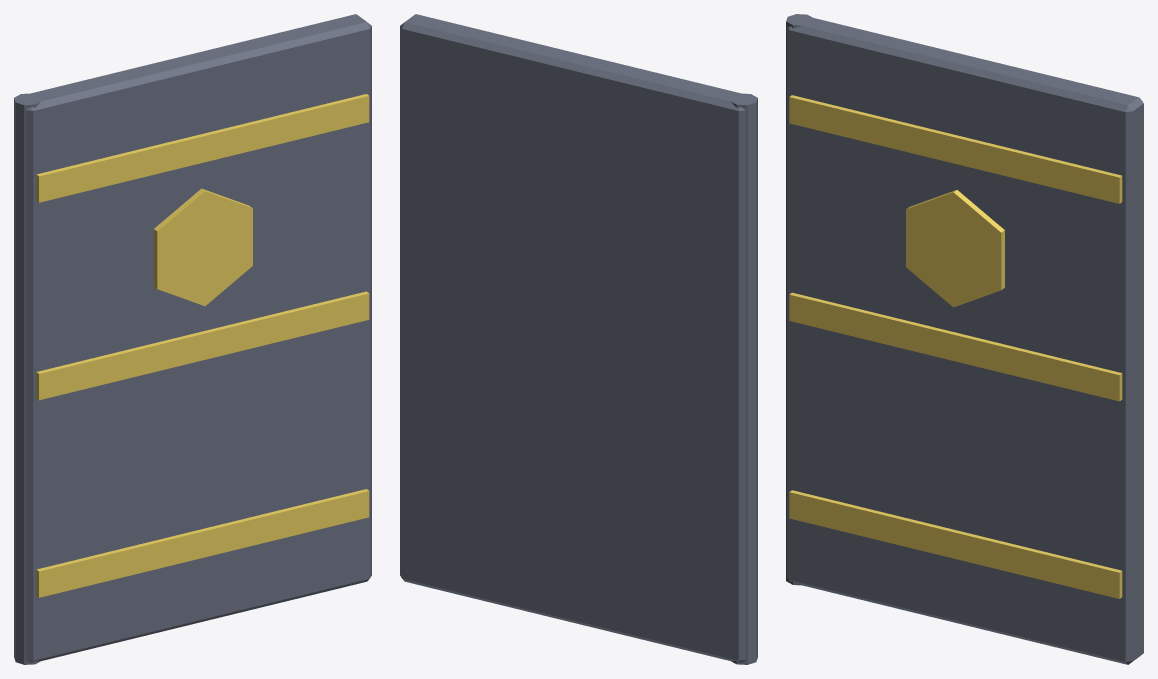
The model's file is Portao.fbx.
The picture shows the model from 3 angles, left to right: view 1: azimuth 30°, elevation 25°; view 2: azimuth 150°, elevation 25°; view 3: azimuth 330°, elevation 25°; orthographic projection.
Visible parts, largest first — view 1: Portao; view 2: Portao; view 3: Portao.
Boxes of the visible parts, x1,y1,x2,y2 form: Portao: [14, 14, 371, 664]; Portao: [400, 14, 757, 664]; Portao: [786, 14, 1143, 664].
Bounding box in the file's own units: 2.23 × 3.4 × 0.22.
